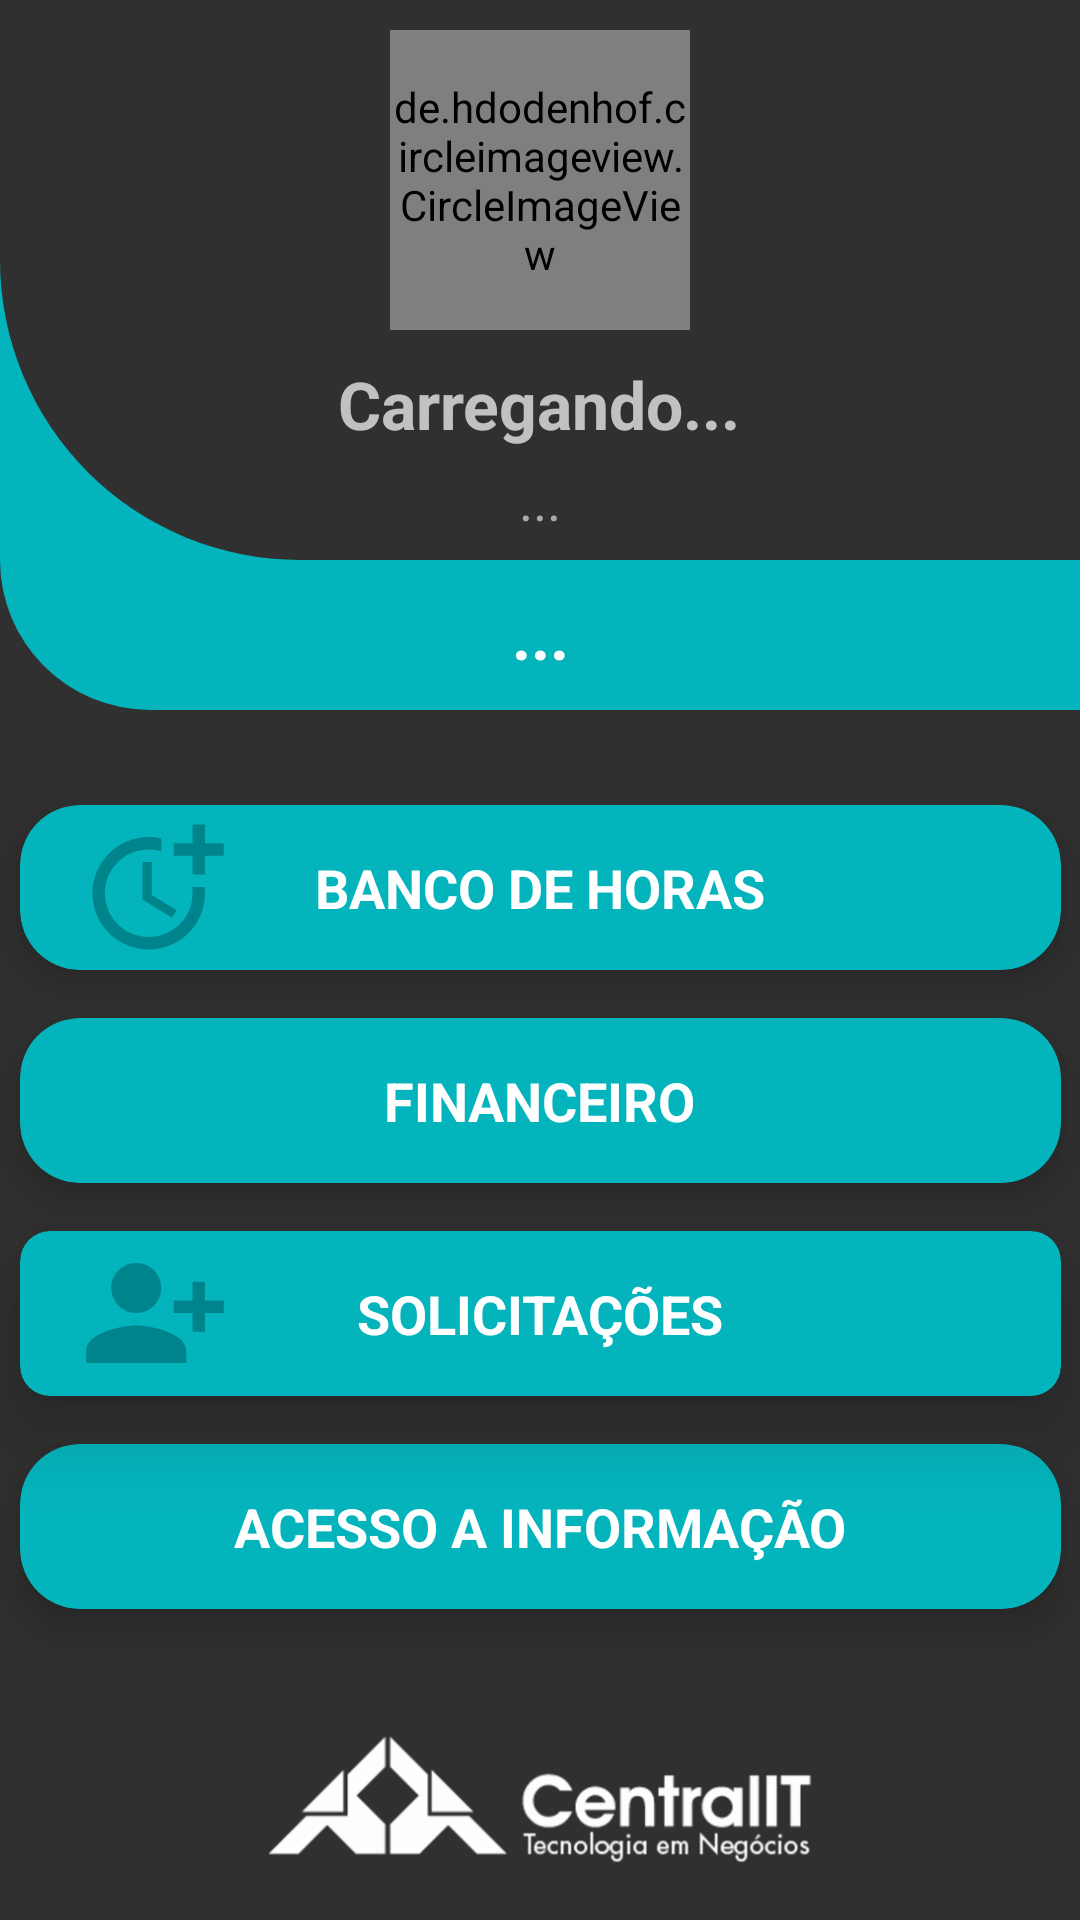

Where to tap for icons on this 1080px×1920px app screen, as (x=x, y=y):
bankhour: (x=158, y=887)
person: (x=155, y=1313)
